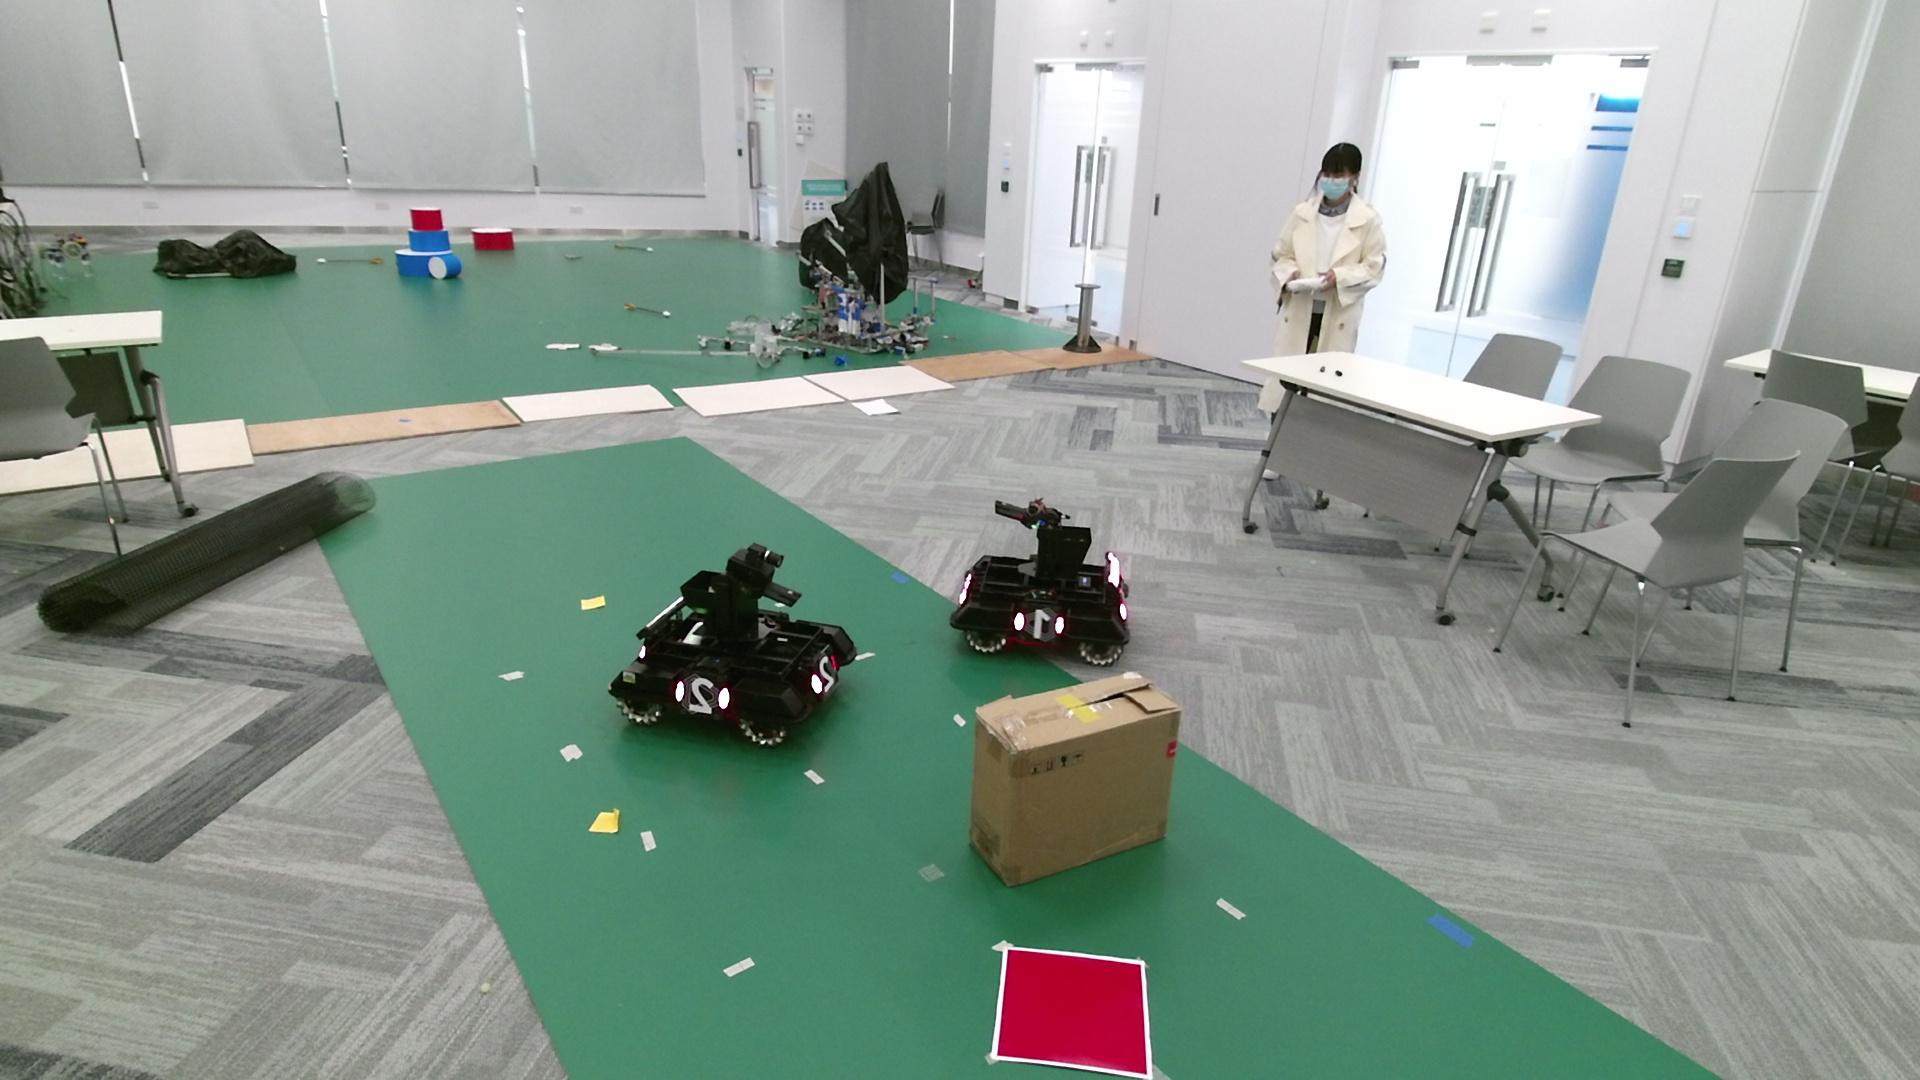robot: (605, 541, 860, 748), (949, 496, 1131, 670)
